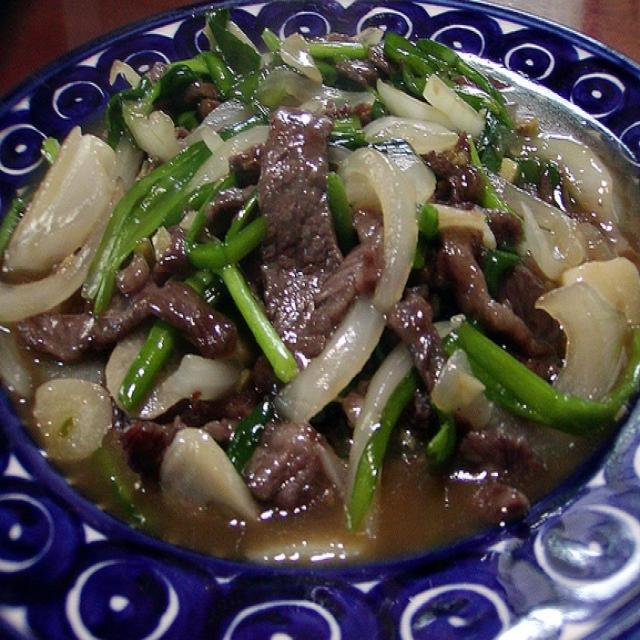牛肉菜式: (13, 11, 616, 592)
